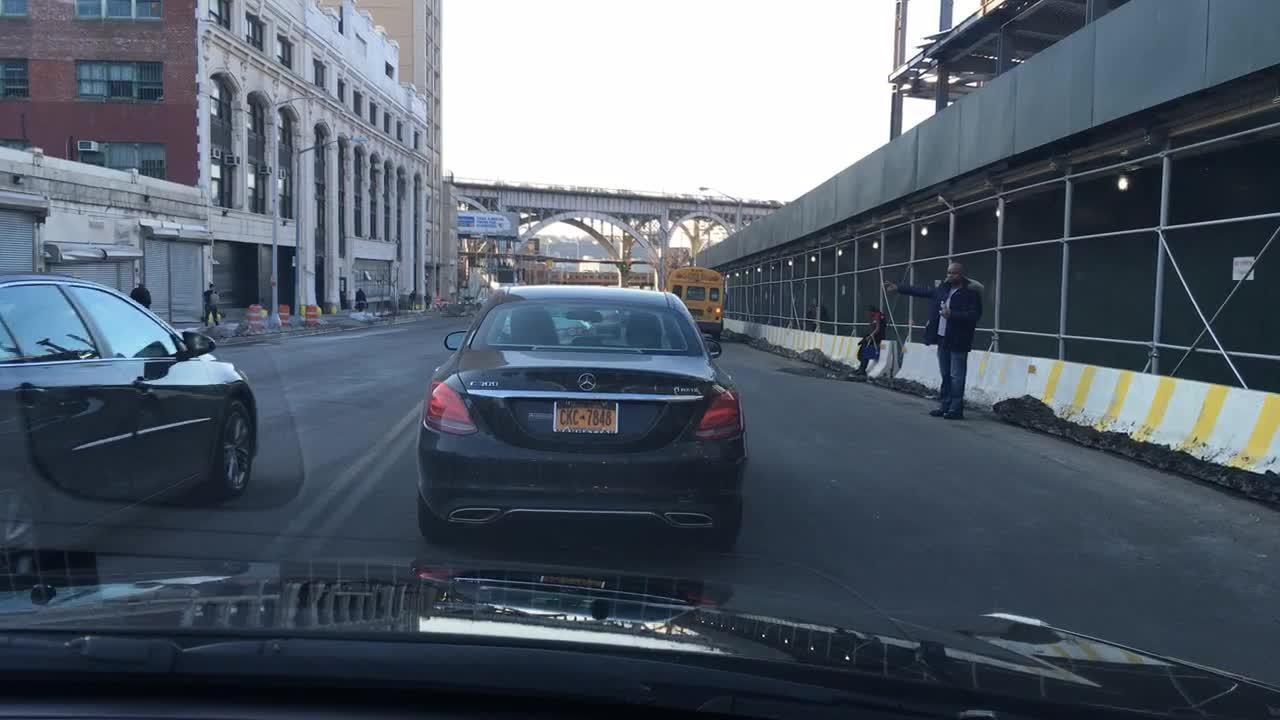Mercedes: (572, 366, 602, 394)
